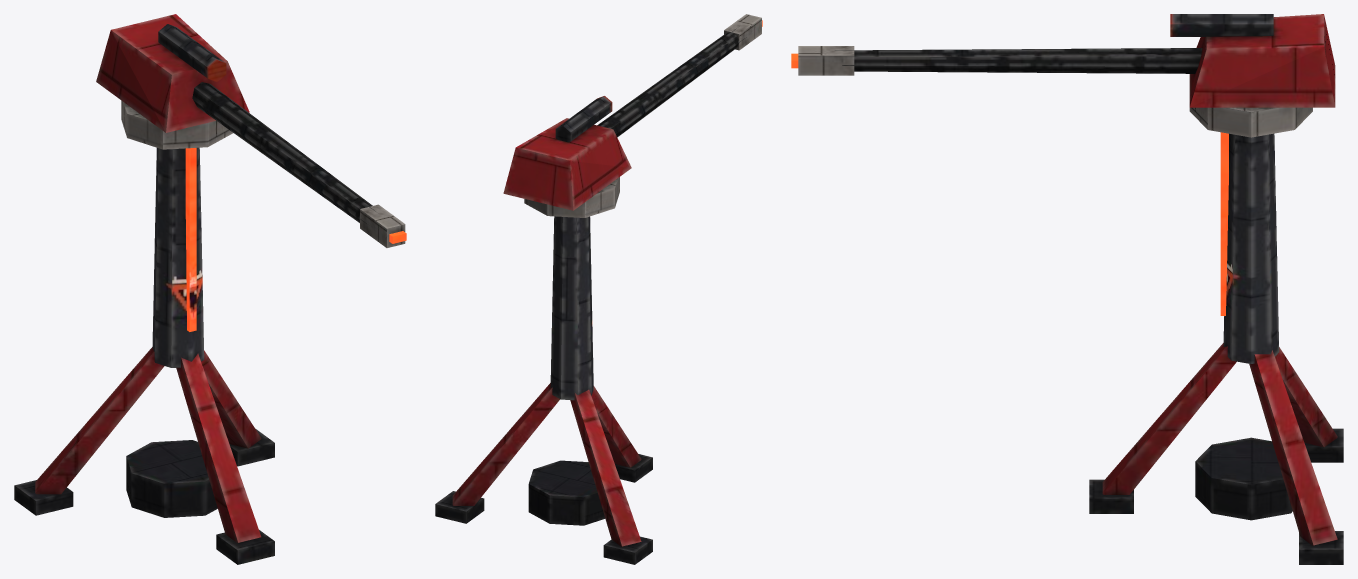
The model's file is u_spire1_e.glb.
The picture shows the model from 3 angles, left to right: view 1: azimuth 30°, elevation 25°; view 2: azimuth 150°, elevation 25°; view 3: azimuth 270°, elevation 25°; orthographic projection. The views are drawn at different scales.
Visible parts, largest first — view 1: u_spire1_e; view 2: u_spire1_e; view 3: u_spire1_e.
Boxes of the visible parts, bbox=[...] form: u_spire1_e: bbox=[14, 14, 406, 564]; u_spire1_e: bbox=[435, 14, 762, 564]; u_spire1_e: bbox=[791, 14, 1343, 564].
Size of the model in its own units: 1.03 by 1.93 by 1.97.
1 material, 1 textured.
